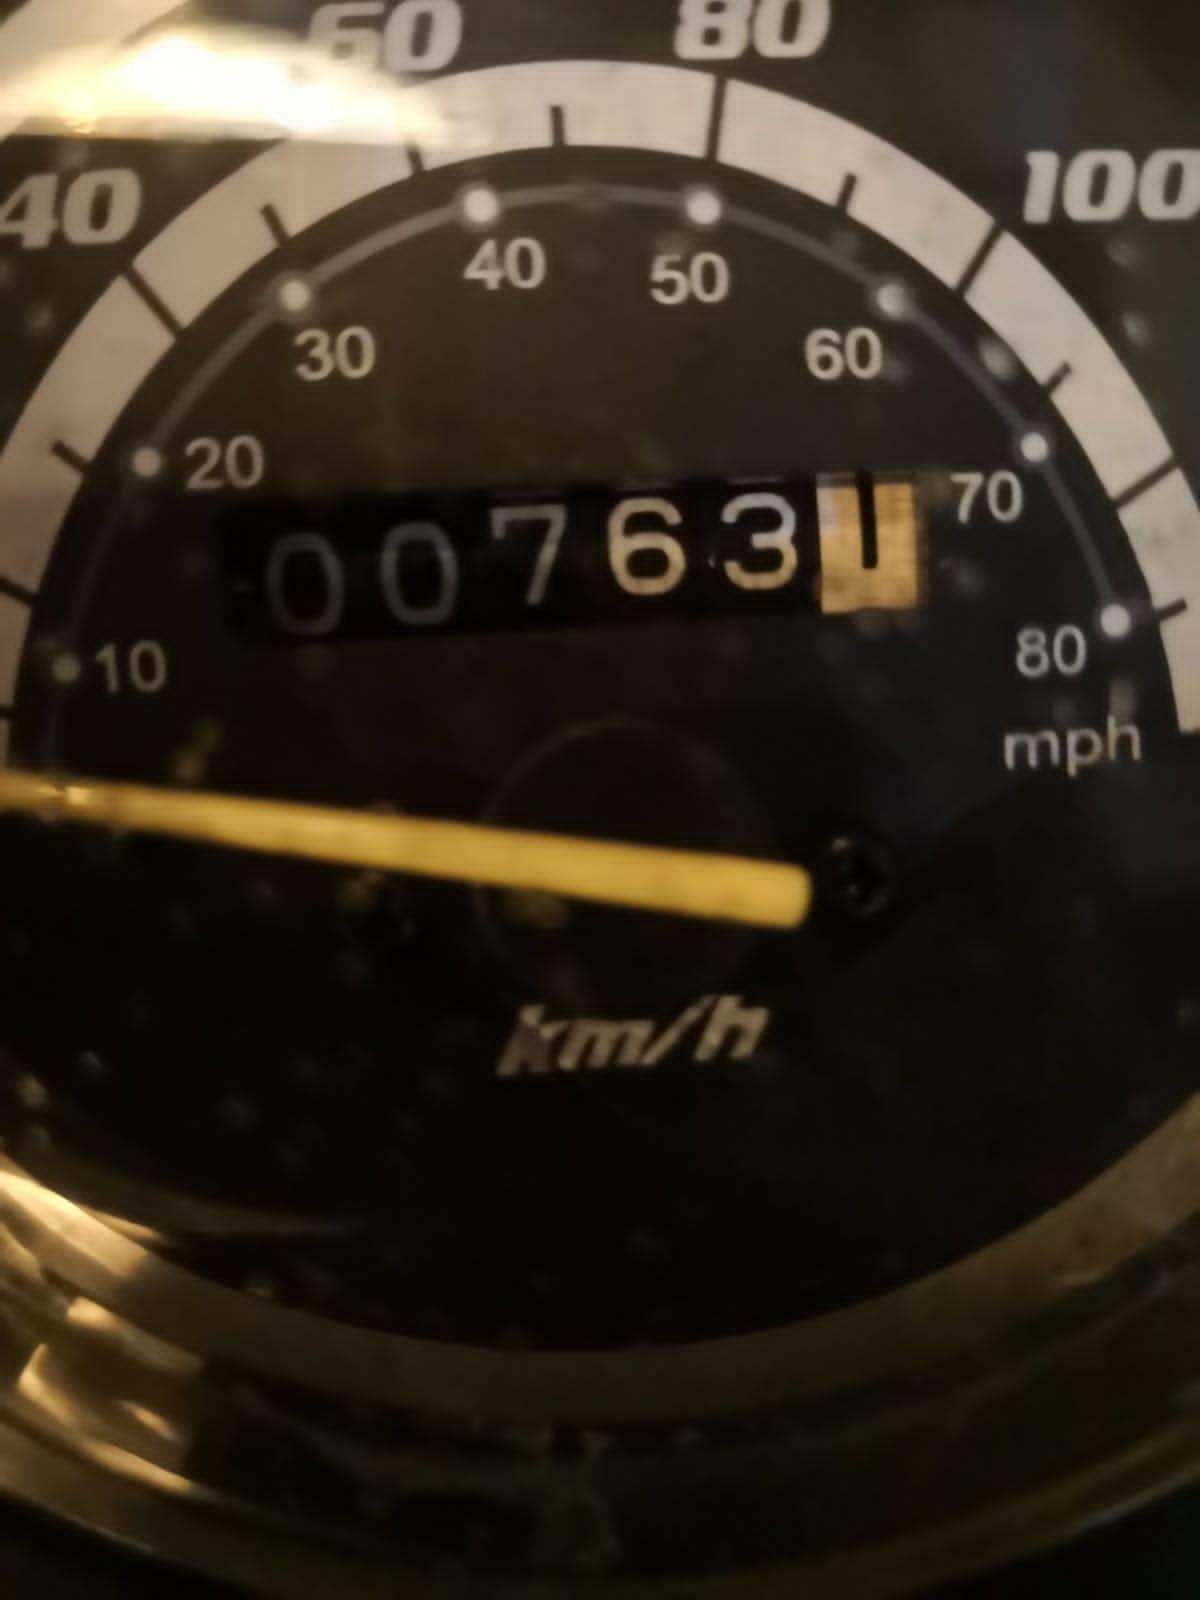0: (377, 519, 460, 626), (265, 530, 345, 637)
1: (851, 469, 880, 571)
3: (715, 490, 804, 598)
6: (604, 495, 688, 598)
7: (487, 501, 568, 607)
odometer: (214, 467, 937, 659)
